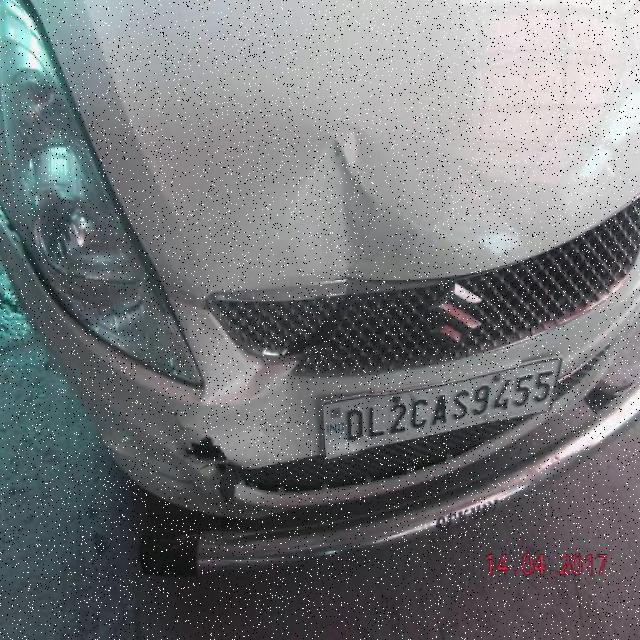car damage: (279, 126, 433, 370), (224, 388, 324, 472), (192, 357, 302, 424), (186, 431, 253, 514)
